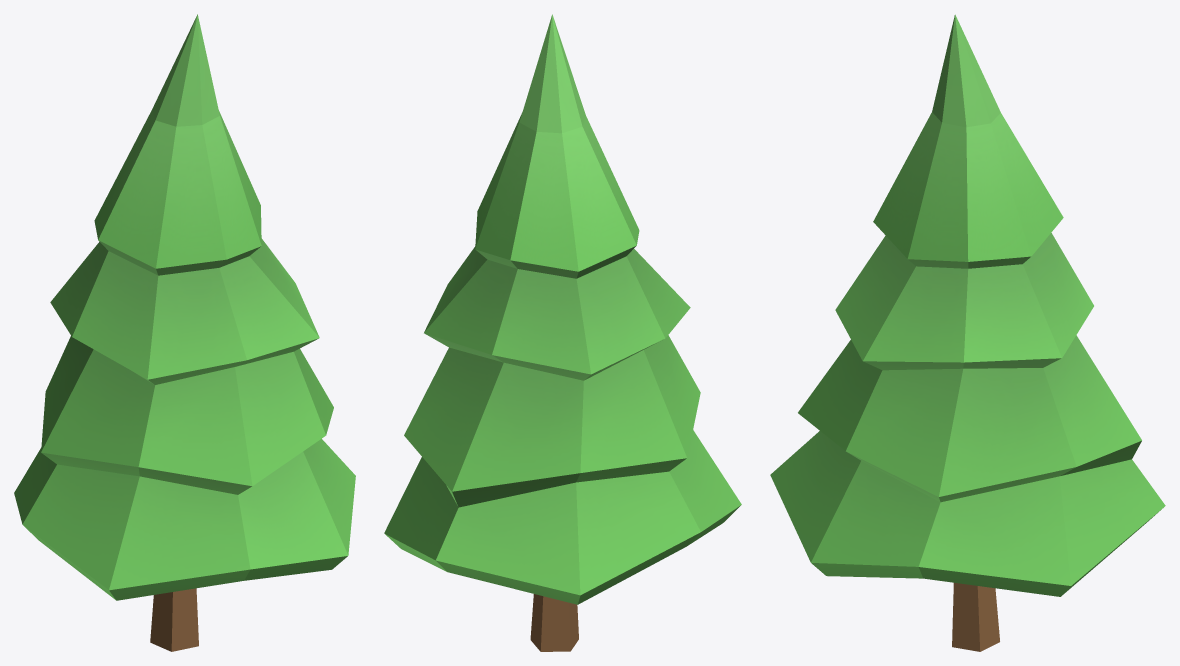
File: Fir_Tree_m_05_LOD.fbx
The picture shows the model from 3 angles, left to right: view 1: azimuth 30°, elevation 25°; view 2: azimuth 150°, elevation 25°; view 3: azimuth 270°, elevation 25°; orthographic projection. The views are drawn at different scales.
Parts seen in each view (by area): view 1: Fir_Tree_m_05_LOD0; view 2: Fir_Tree_m_05_LOD0; view 3: Fir_Tree_m_05_LOD0.
Part boxes in pixels (x1,y1,x2,y2): Fir_Tree_m_05_LOD0: (14,14,355,651); Fir_Tree_m_05_LOD0: (384,14,741,651); Fir_Tree_m_05_LOD0: (770,14,1165,651).
Size of what is drawn, in the model's own units: 314 by 623 by 353.
